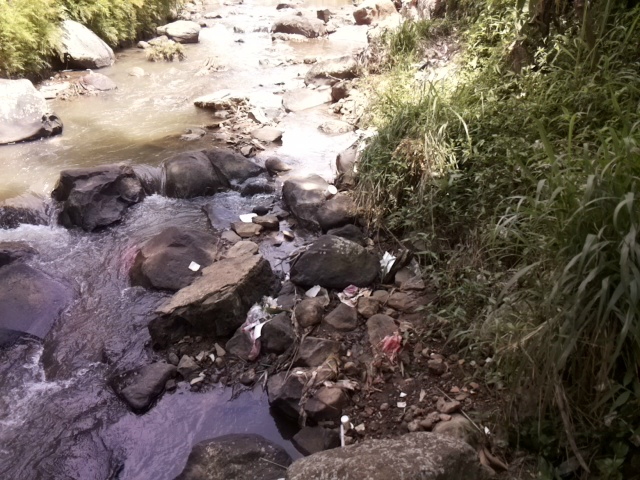Sampah_Plastik: (241, 293, 282, 366), (336, 284, 372, 307), (379, 329, 403, 361)
Sampah_Styrofoam: (378, 248, 396, 281), (303, 282, 331, 303), (337, 413, 357, 441), (323, 183, 339, 202), (238, 212, 258, 225), (187, 261, 201, 274)
